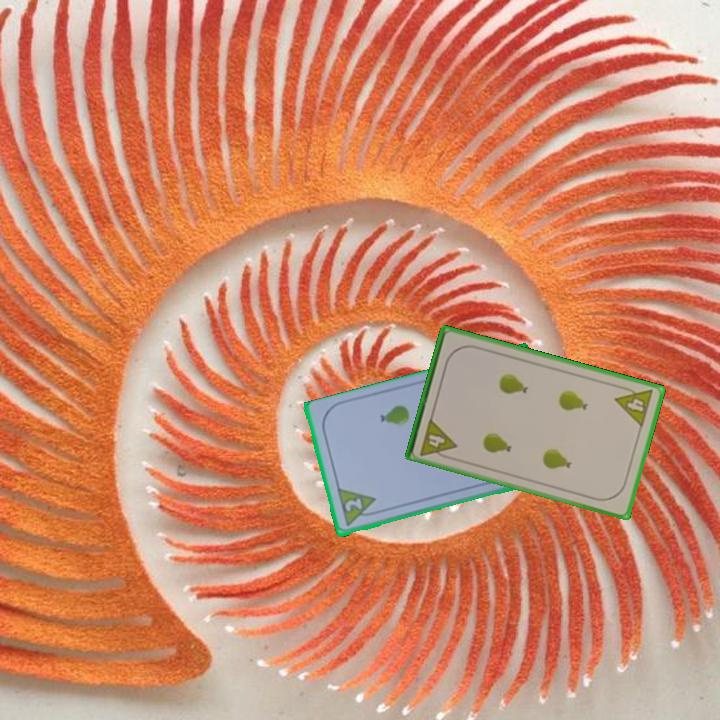2p: (333, 486, 381, 530)
4p: (611, 381, 656, 430), (416, 414, 459, 462)
